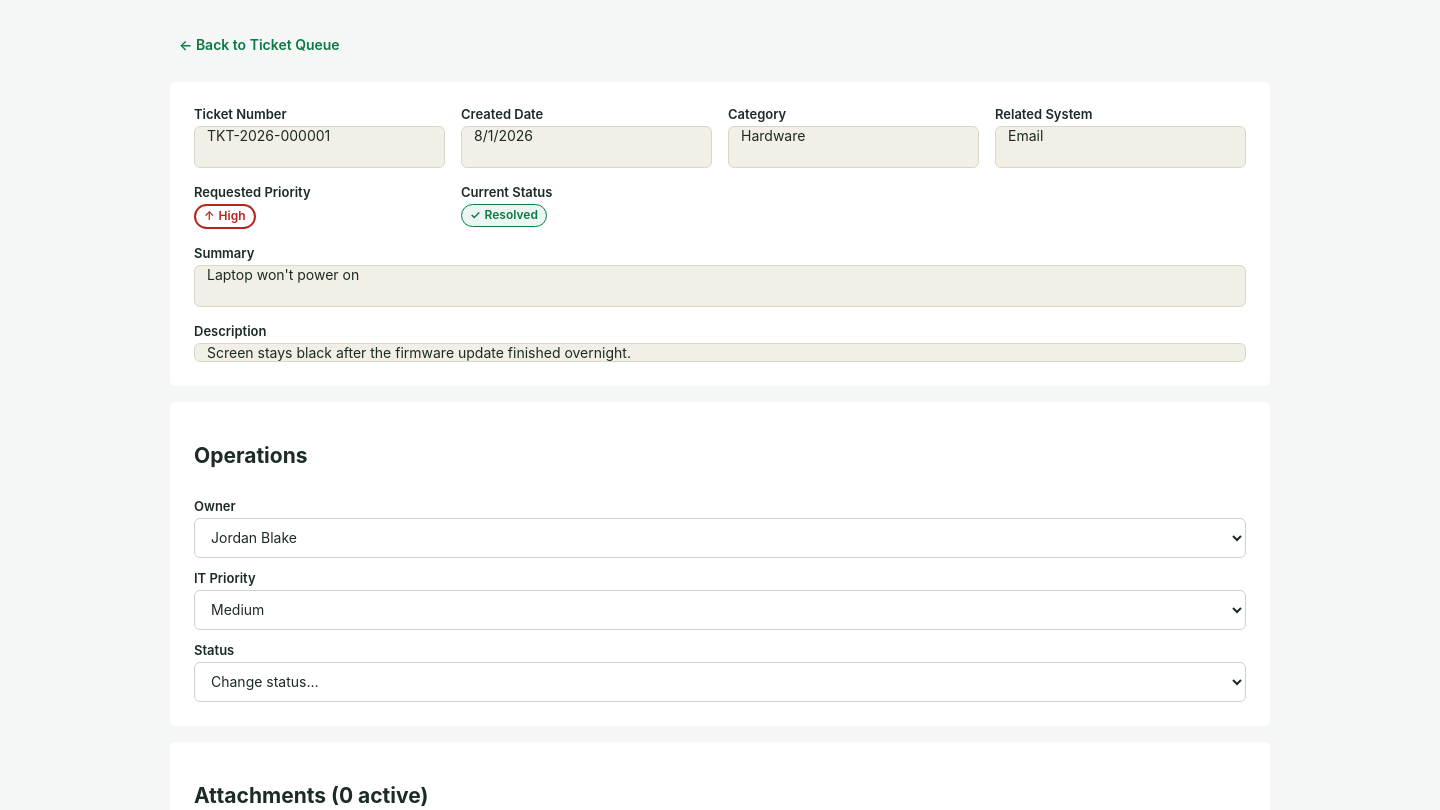
Ticket workflow controls (BR-15, BR-17) › Status offers only legal targets; Closed and Cancelled ask for confirmation before any request
This screenshot has width=1440, height=810.
Select "Closed" in the dropdown named "Status" at point(720, 682), box 194,662 -> 1246,702
(page scrolled)
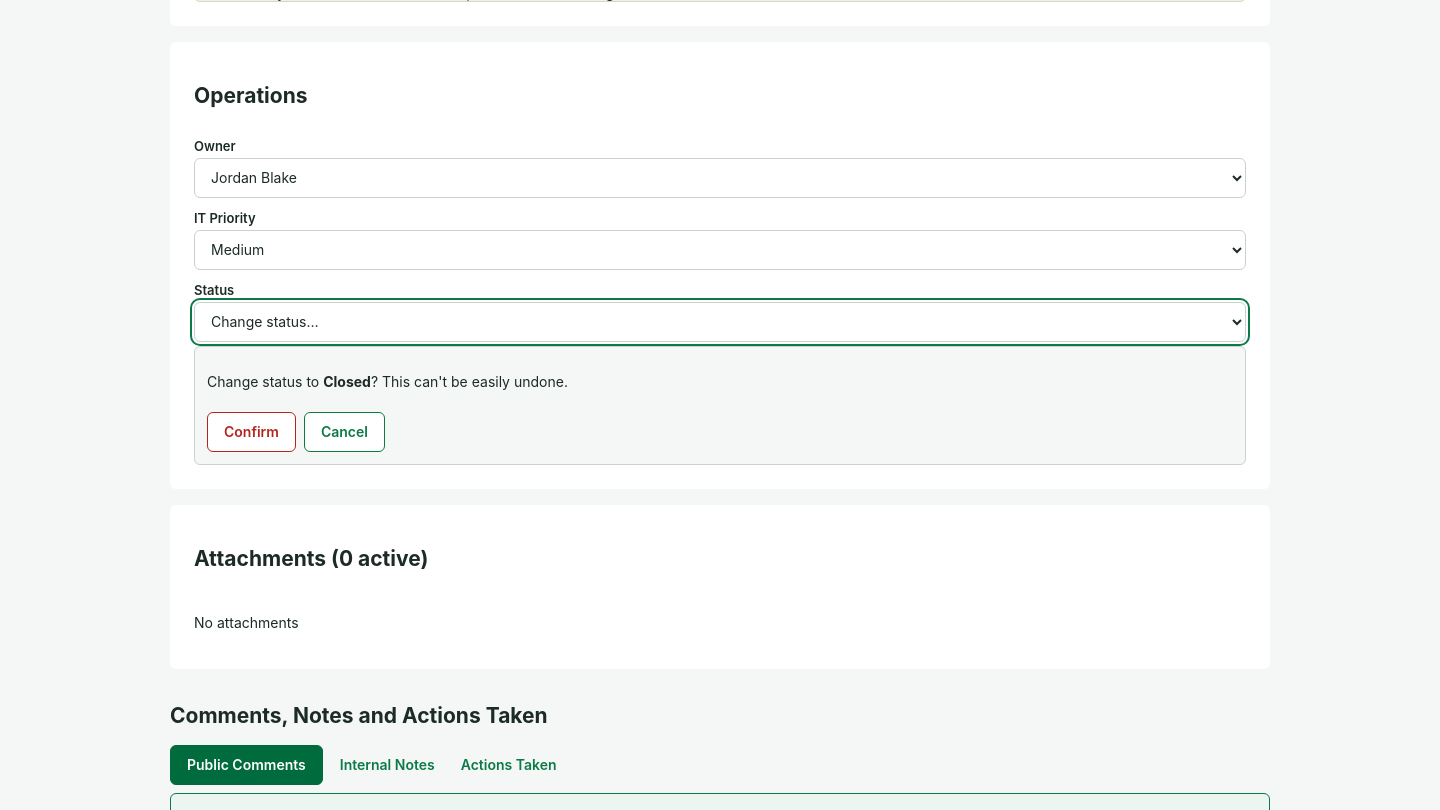
Now the dialog named "Confirm status change" is shown, box 194,346 -> 1246,465
